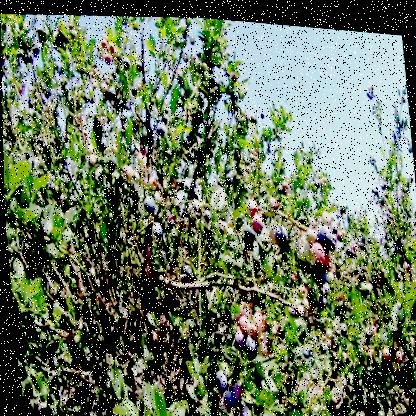intermediate: (244, 192, 261, 216), (311, 237, 326, 259), (251, 210, 265, 232), (253, 306, 265, 329), (237, 308, 249, 330), (237, 295, 249, 314), (109, 35, 118, 54), (100, 36, 110, 51), (103, 52, 111, 64)
mature: (269, 216, 290, 247), (317, 218, 335, 245), (232, 324, 245, 348), (212, 365, 226, 385), (150, 220, 164, 240), (242, 218, 253, 241), (245, 333, 257, 354), (143, 191, 155, 211), (313, 260, 326, 276), (223, 388, 233, 408), (363, 321, 371, 336), (322, 278, 332, 288), (319, 289, 327, 301), (123, 57, 131, 69), (136, 57, 144, 69)
young: (135, 152, 147, 172), (123, 161, 133, 180), (380, 339, 390, 356), (182, 47, 191, 62), (149, 170, 157, 185)
